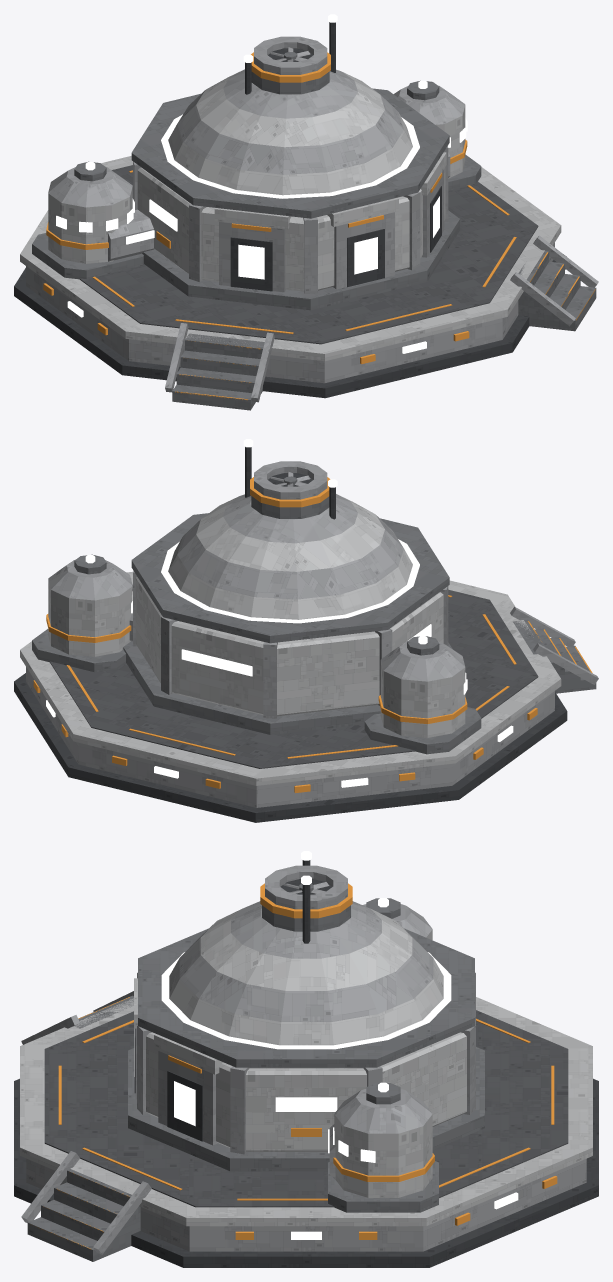
The model's file is habitat_ii_lod0.glb.
The picture shows the model from 3 angles, top to bottom: view 1: azimuth 30°, elevation 25°; view 2: azimuth 150°, elevation 25°; view 3: azimuth 270°, elevation 25°; orthographic projection. The views are drawn at different scales.
Parts seen in each view (by area): view 1: habitat_ii_base_body, habitat_ii_base_glow, habitat_ii_base_trim; view 2: habitat_ii_base_body, habitat_ii_base_trim, habitat_ii_base_glow; view 3: habitat_ii_base_body, habitat_ii_base_glow, habitat_ii_base_trim.
Boxes of the visible parts, <box> form: habitat_ii_base_body: <box>14,22,598,410</box>; habitat_ii_base_glow: <box>56,14,467,353</box>; habitat_ii_base_trim: <box>43,52,595,400</box>; habitat_ii_base_body: <box>14,447,598,822</box>; habitat_ii_base_trim: <box>33,477,592,793</box>; habitat_ii_base_glow: <box>46,439,513,787</box>; habitat_ii_base_body: <box>14,860,598,1267</box>; habitat_ii_base_glow: <box>134,851,518,1239</box>; habitat_ii_base_trim: <box>30,883,557,1249</box>.
Bounding box in the file's own units: 3.8 × 2.08 × 3.8.
3 materials, 1 textured.
